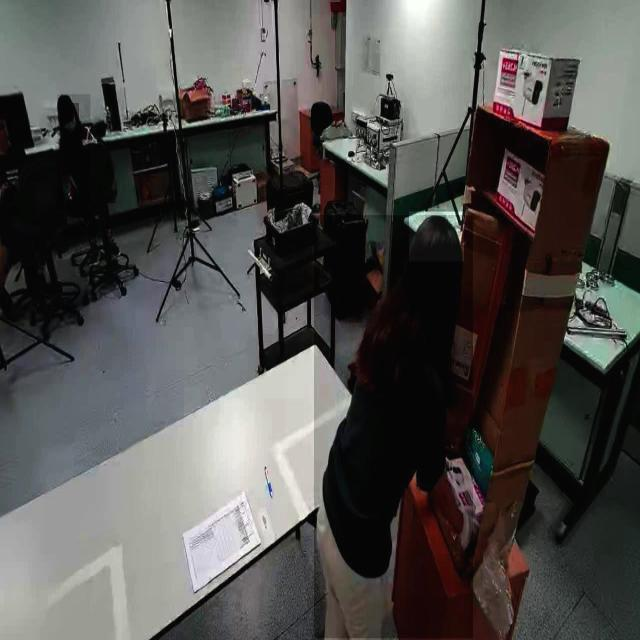face_mask: (61, 103, 79, 141)
hand_noglove: (0, 179, 14, 201)
head_nohelmet: (408, 212, 464, 262)
person: (313, 215, 473, 639), (57, 94, 91, 212)
